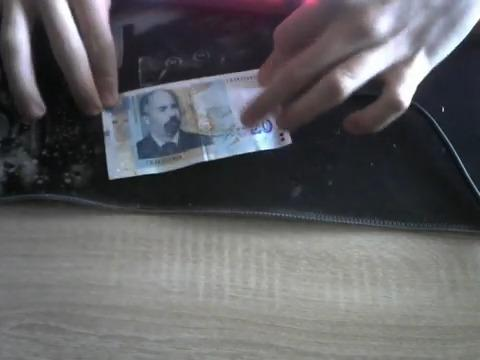20leva: (101, 69, 293, 181)
